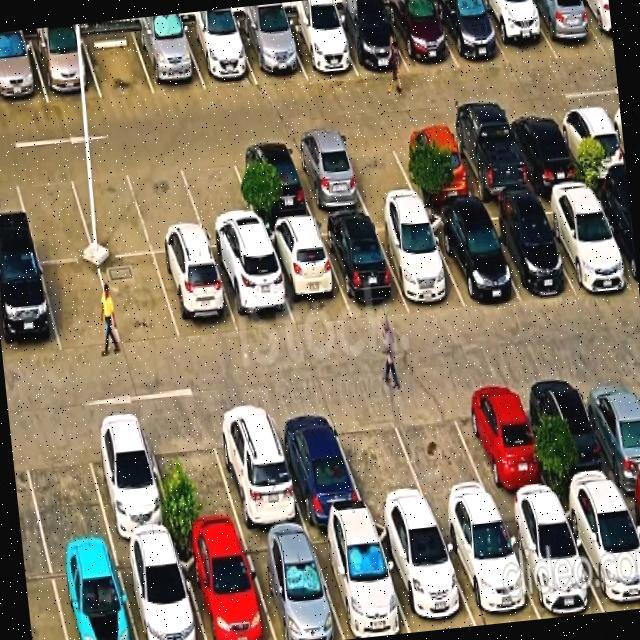empty: (387, 386, 495, 514), (328, 395, 431, 516), (144, 415, 243, 540), (18, 423, 111, 554), (177, 148, 262, 247), (67, 160, 152, 258), (126, 156, 208, 252), (97, 253, 180, 347), (13, 165, 93, 262), (40, 260, 120, 353), (337, 131, 419, 209), (81, 28, 154, 98)
occupied: (207, 402, 306, 533), (452, 379, 554, 506), (497, 502, 603, 619), (435, 508, 539, 625), (524, 372, 620, 498), (81, 418, 176, 545), (268, 402, 366, 525), (308, 522, 409, 639), (373, 517, 475, 632), (241, 530, 344, 640), (535, 188, 633, 292), (177, 536, 275, 640), (559, 491, 640, 612), (478, 201, 574, 301), (425, 207, 520, 308), (262, 222, 351, 328), (317, 216, 408, 318), (371, 212, 465, 309), (114, 542, 205, 640), (48, 548, 136, 640), (576, 368, 640, 490), (154, 249, 238, 340), (210, 244, 294, 333), (445, 118, 532, 200), (231, 142, 314, 225), (287, 137, 368, 217), (392, 125, 475, 200), (504, 110, 583, 188), (0, 260, 60, 360), (382, 0, 458, 73), (554, 105, 627, 180), (332, 5, 408, 76), (477, 0, 557, 66), (590, 185, 639, 291), (181, 22, 257, 90), (432, 0, 508, 68), (132, 24, 205, 94), (29, 33, 101, 103), (282, 13, 357, 79), (526, 0, 606, 59), (236, 18, 306, 84), (0, 38, 48, 108), (578, 0, 614, 53)
